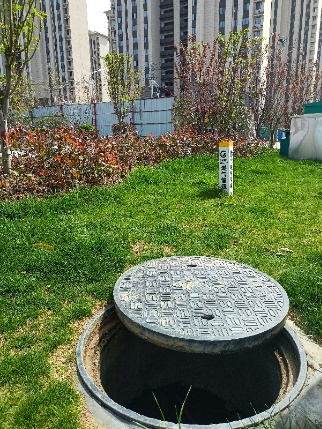uncovered: (75, 256, 307, 427)
